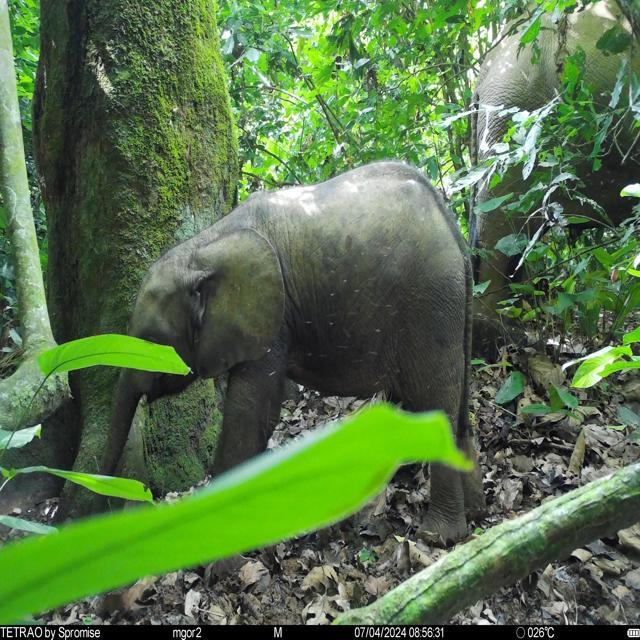calf: (89, 156, 488, 548)
ear: (198, 226, 288, 382)
elephant: (470, 0, 640, 322)
